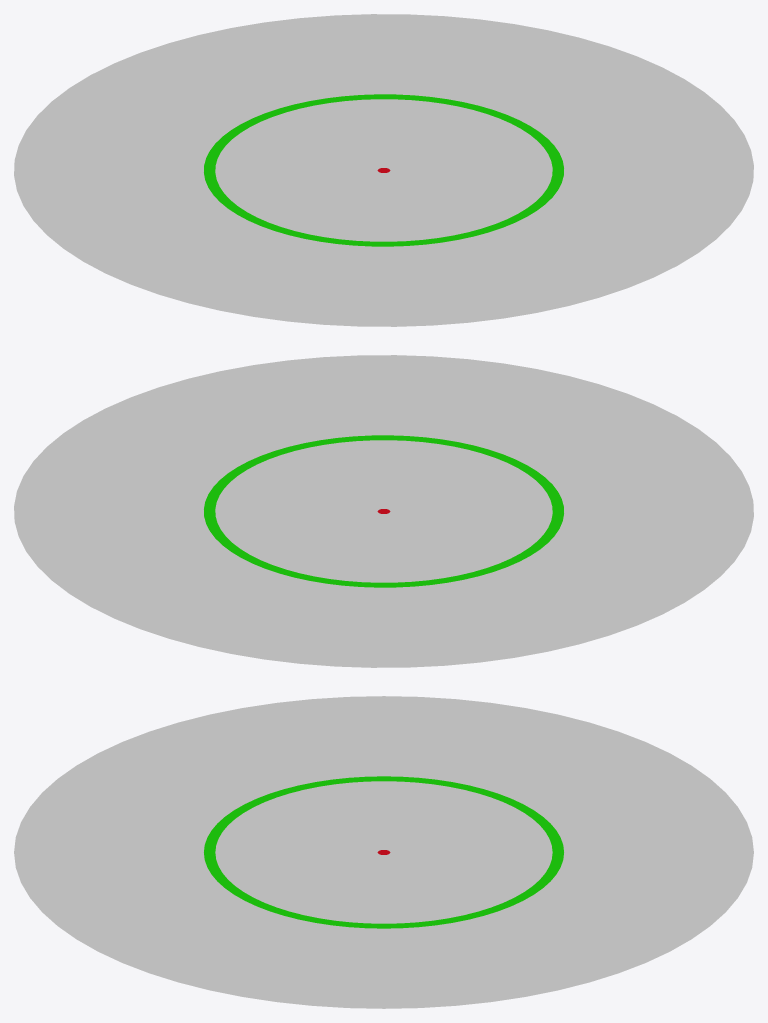
The model's file is ForceField.fbx.
3 renders of one model, top to bottom at view 1: azimuth 30°, elevation 25°; view 2: azimuth 150°, elevation 25°; view 3: azimuth 270°, elevation 25°, orthographic.
Visible parts, largest first — view 1: Circle; view 2: Circle; view 3: Circle.
Boxes of the visible parts, box(x1,y1,x2,y2) form: Circle: box(14, 14, 753, 326); Circle: box(14, 355, 753, 667); Circle: box(14, 696, 753, 1008).
Size of the model in its own units: 205 by 3.35e-05 by 205.
